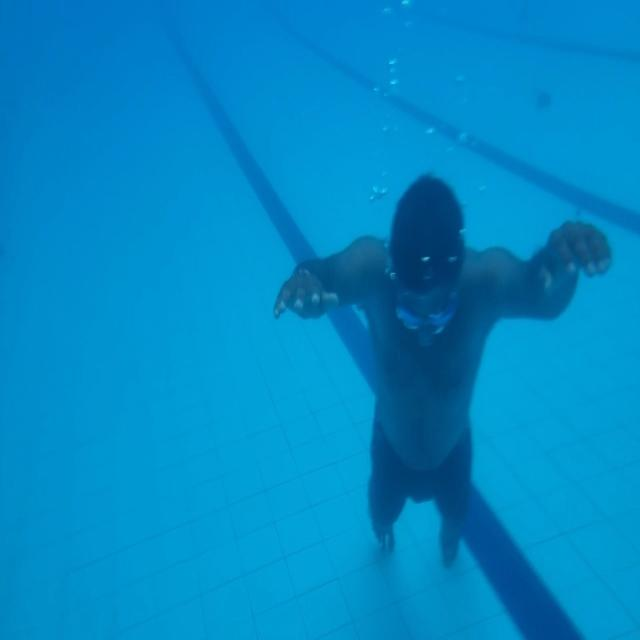Drowning: (274, 170, 612, 570)
